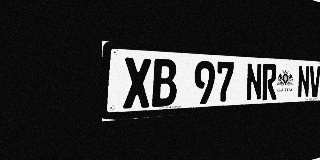7: (215, 61, 234, 103)
9: (194, 60, 215, 104)
B: (152, 58, 177, 107)
N: (246, 63, 262, 101), (298, 65, 309, 98)
R: (262, 64, 277, 100)
V: (309, 66, 320, 97)
X: (123, 57, 151, 109)
